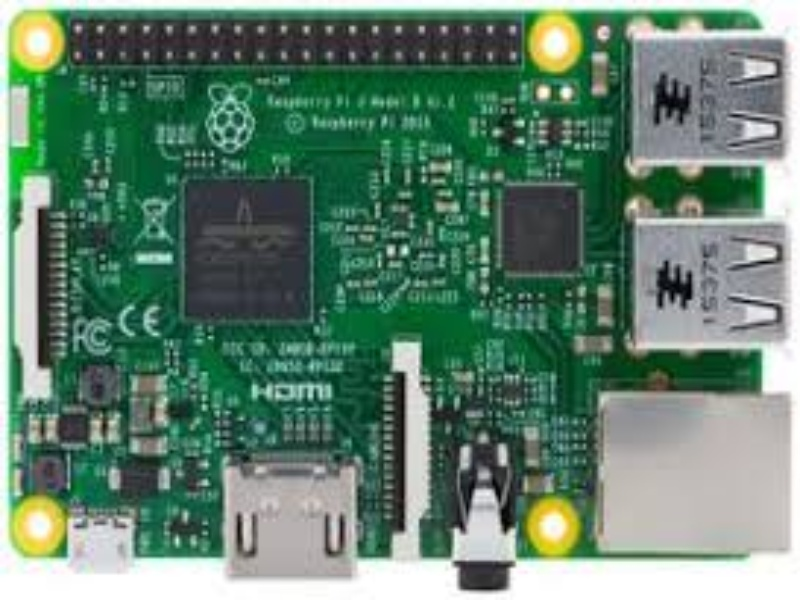raspberrypi: (5, 9, 791, 567)
